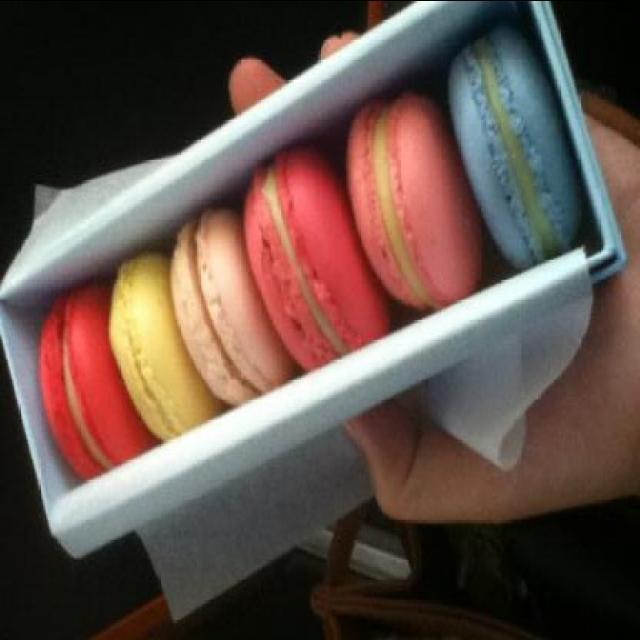Macaron: (28, 14, 584, 512)
